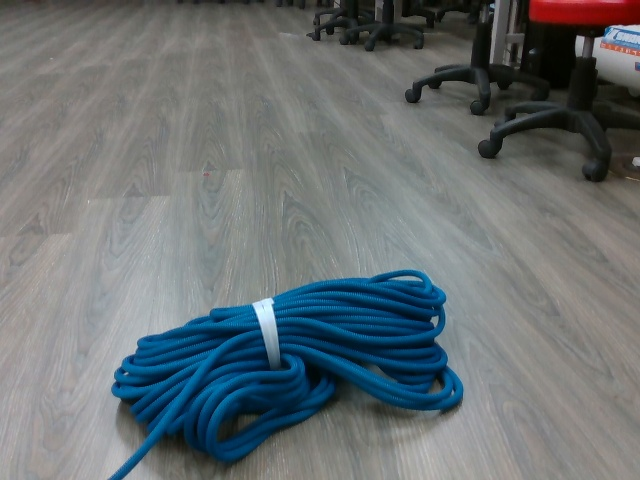rope: (106, 267, 472, 461)
